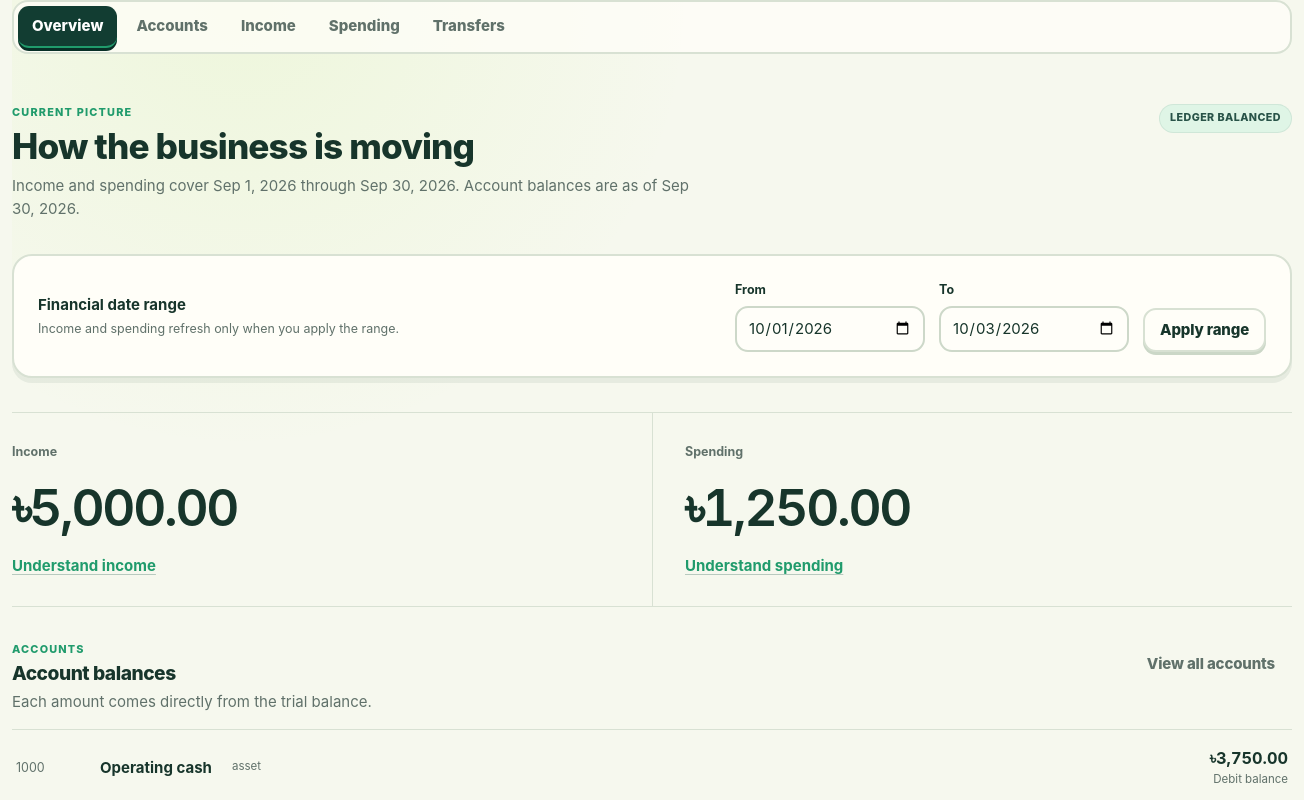
Test: Chatbooks BUSINESS Money workspace › filters the loaded account page and paginates through the API
The width and height of the screenshot is (1304, 800).
Click the tab "Accounts" at (172, 27), box x1=122 y1=6 x2=222 y2=48
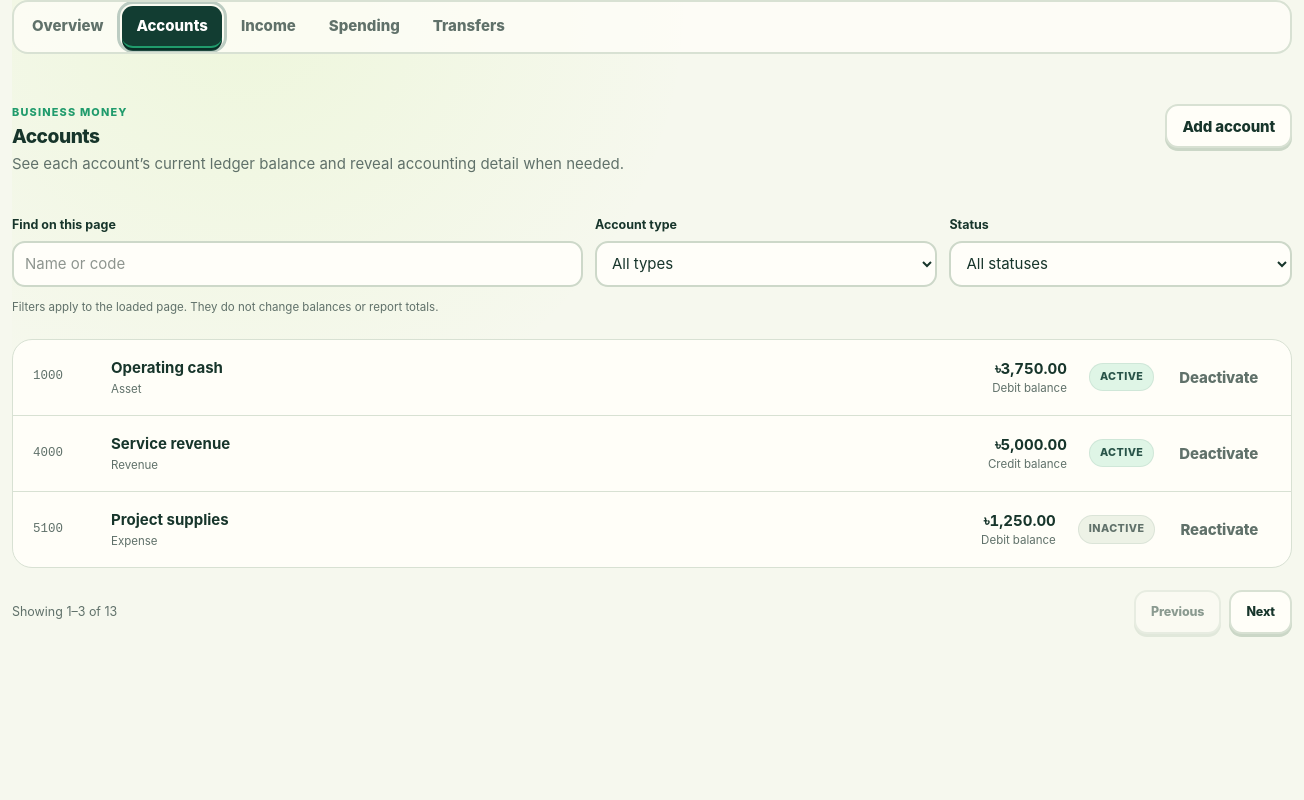
Expected: the text "Inactive" is shown, x1=1078 y1=515 x2=1155 y2=544
Expected: the text "Filters apply to the loaded page" is shown, x1=12 y1=300 x2=438 y2=314
Type "operating" into the search field labelled "Find on this page" at (297, 264), box x1=12 y1=241 x2=583 y2=287
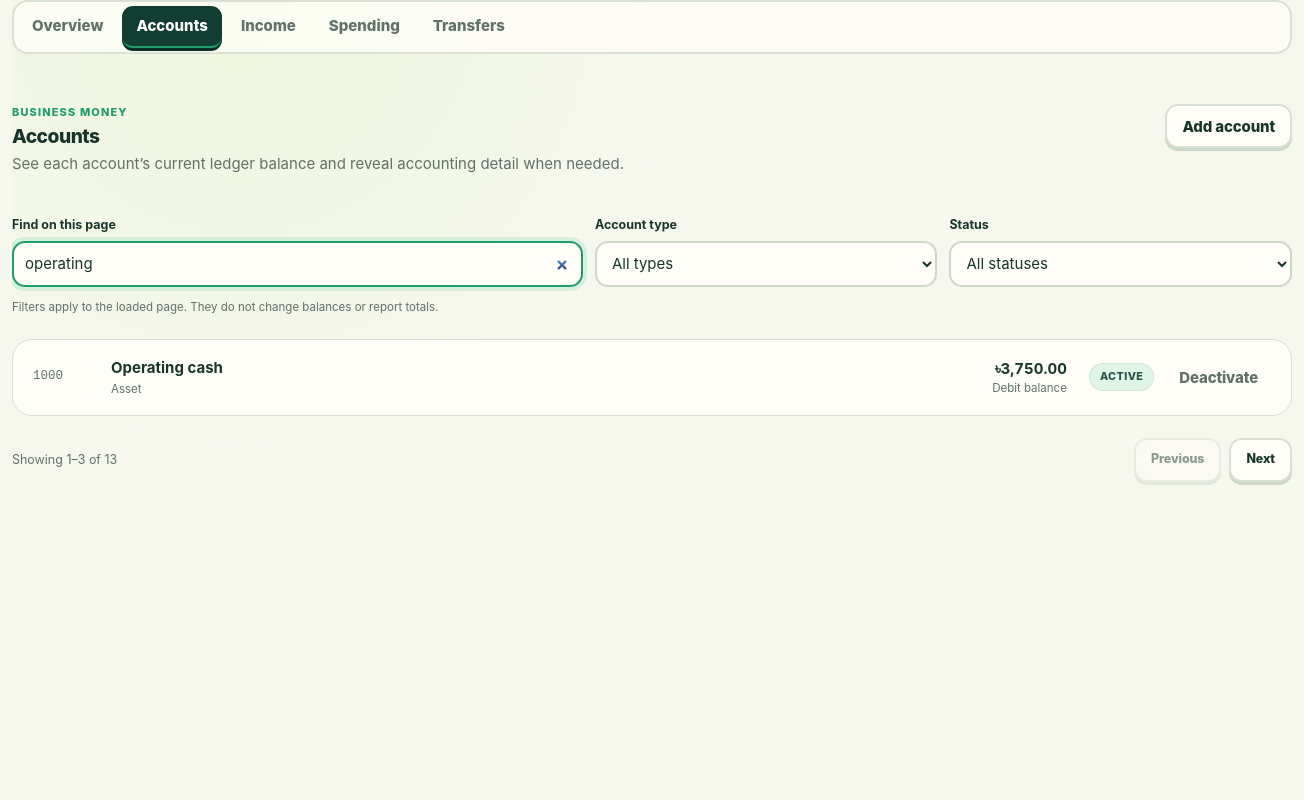
Expected: the text "Operating cash" is shown, x1=111 y1=356 x2=231 y2=379
Expected: the link "Service revenue" is gone
Clear the search field labelled "Find on this page" at (297, 264), box x1=12 y1=241 x2=583 y2=287
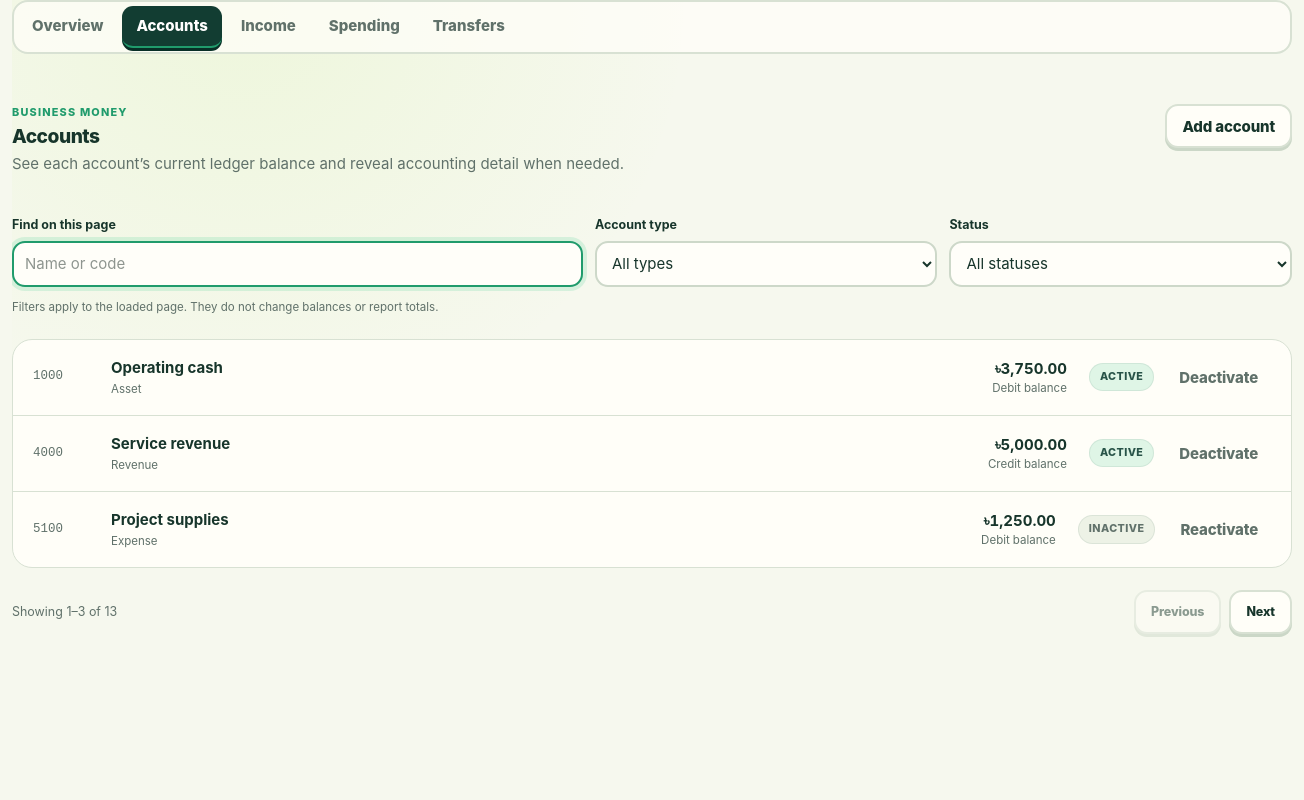
Click the button "Next" at (1261, 612), box x1=1229 y1=590 x2=1292 y2=634
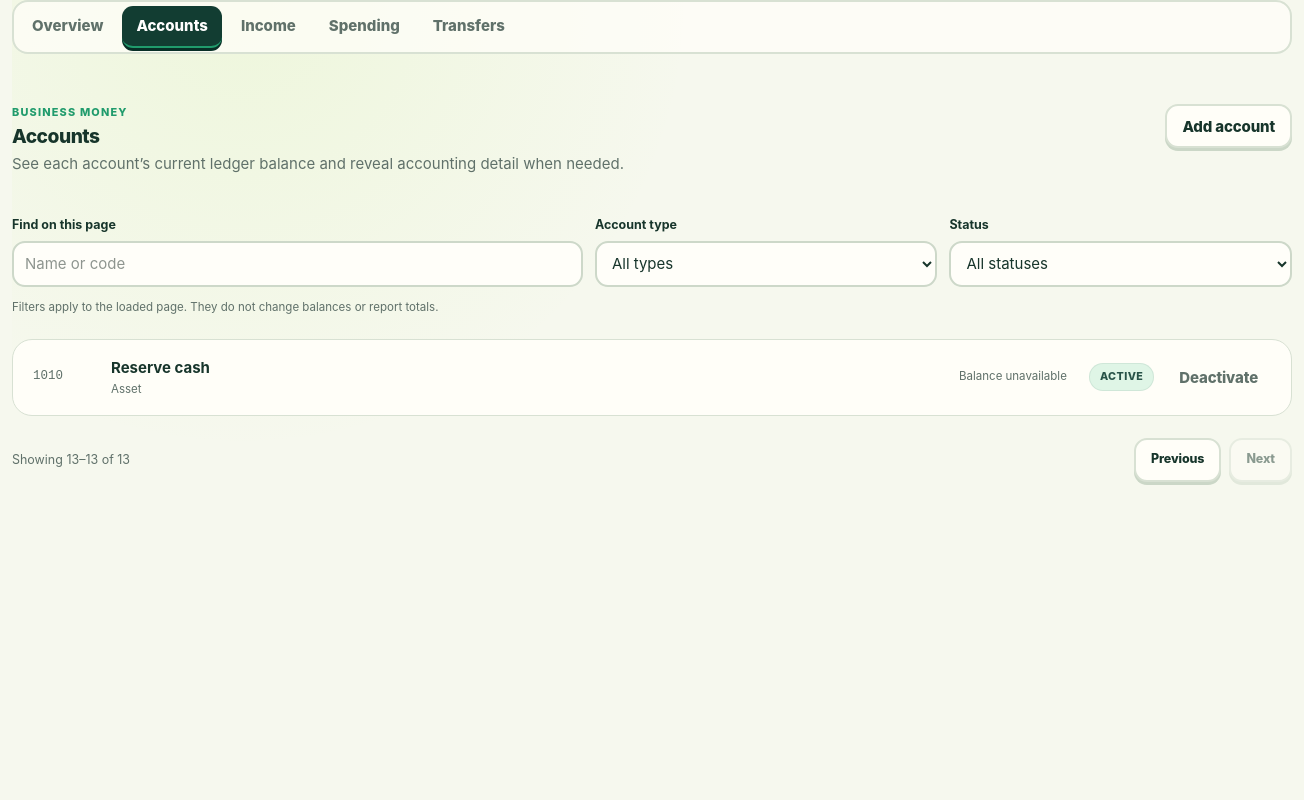
Expected: the text "Reserve cash" is shown, x1=111 y1=358 x2=210 y2=376
Expected: the text "Showing 13–13 of 13" is shown, x1=12 y1=450 x2=130 y2=469
